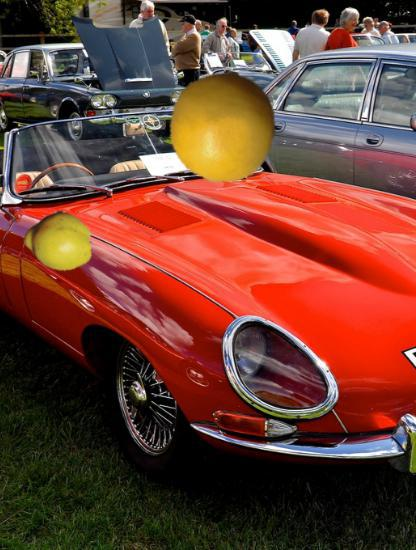Grapefruit: (167, 71, 279, 183)
Quince: (23, 206, 93, 276)
